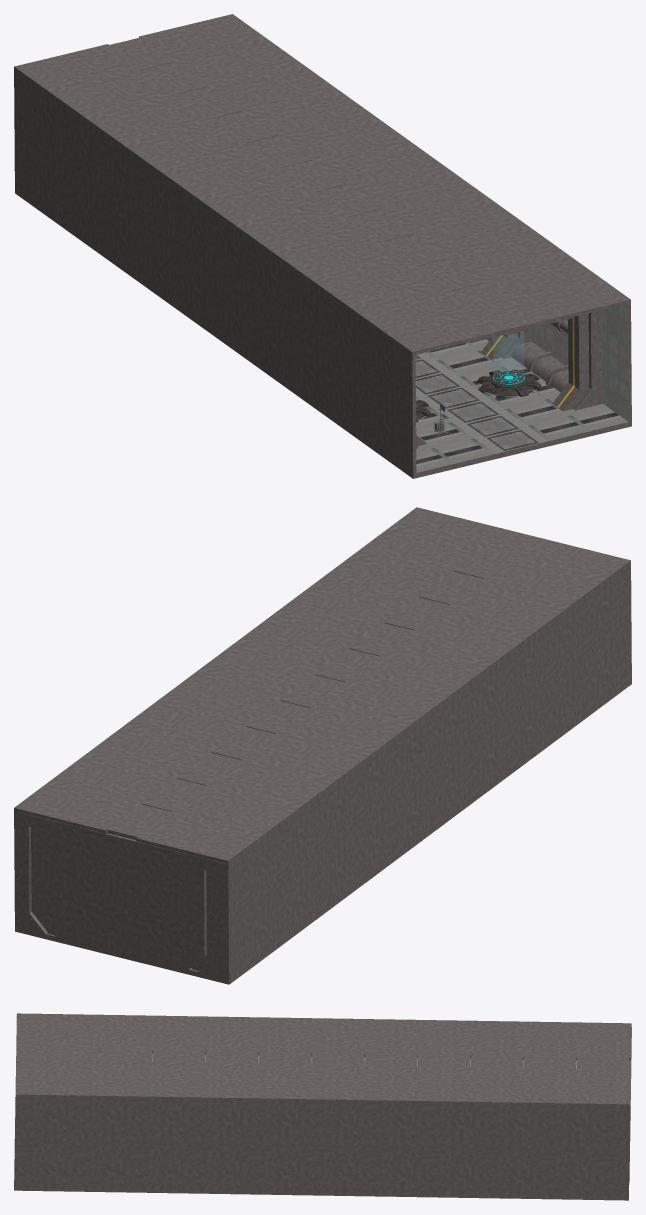
File: human-sleep-module-lab.glb
The picture shows the model from 3 angles, top to bottom: view 1: azimuth 30°, elevation 25°; view 2: azimuth 150°, elevation 25°; view 3: azimuth 270°, elevation 25°; orthographic projection. The views are drawn at different scales.
Visible parts, largest first — view 1: Material2, Material3.001, Material3.007, Material3, Material3.002, Material3.009, Material2.022; view 2: Material2; view 3: Material2.
Boxes of the visible parts, x1,y1,x2,y2 form: Material2: (14,14,631,478); Material3.001: (416,339,627,472); Material3.007: (531,304,628,421); Material3: (415,355,539,451); Material3.002: (416,352,548,453); Material3.009: (416,369,541,422); Material2.022: (493,331,523,382); Material2: (14,507,631,984); Material2: (14,1013,631,1200).
Size of the model in its own units: 266 by 156 by 837.
Materials: 20 (20 with a texture image).
